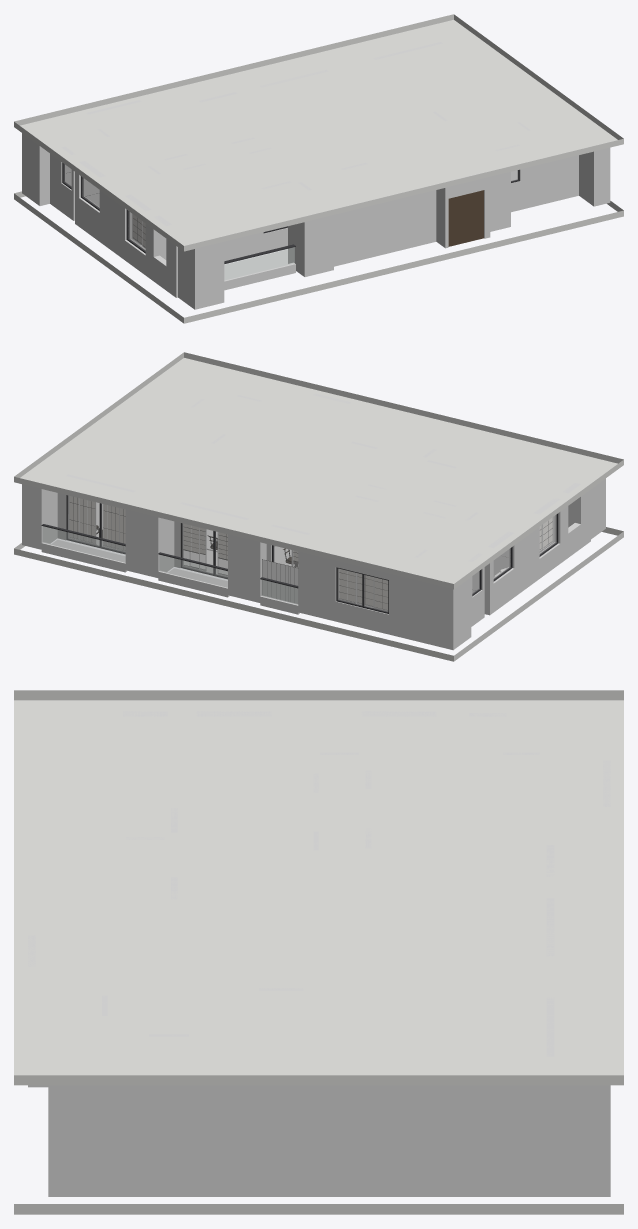
3 renders of one model, top to bottom at view 1: azimuth 30°, elevation 25°; view 2: azimuth 150°, elevation 25°; view 3: azimuth 270°, elevation 25°, orthographic. The views are drawn at different scales.
Visible parts, largest first — view 1: BAKE_arch_h, BAKE_arch, GLASS, BAKE_furn; view 2: BAKE_arch_h, BAKE_arch, GLASS, BAKE_furn, VC_furn; view 3: BAKE_arch_h, BAKE_arch.
Part boxes in pixels (x1=…): BAKE_arch_h: x1=20, y1=20, x2=617, y2=281; BAKE_arch: x1=14, y1=14, x2=623, y2=323; GLASS: x1=64, y1=164, x2=517, y2=280; BAKE_furn: x1=65, y1=172, x2=145, y2=248; BAKE_arch_h: x1=20, y1=358, x2=617, y2=614; BAKE_arch: x1=14, y1=352, x2=623, y2=661; GLASS: x1=43, y1=495, x2=556, y2=611; BAKE_furn: x1=69, y1=496, x2=553, y2=611; VC_furn: x1=70, y1=497, x2=552, y2=608; BAKE_arch_h: x1=14, y1=700, x2=623, y2=1075; BAKE_arch: x1=14, y1=690, x2=623, y2=1214.
Bounding box in the file's own units: 20.72 × 3.5 × 13.88.
